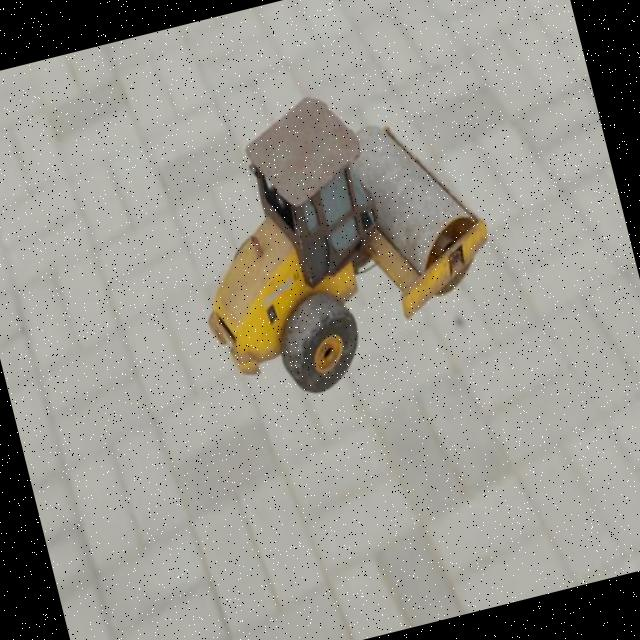Roller: (159, 61, 516, 414)
